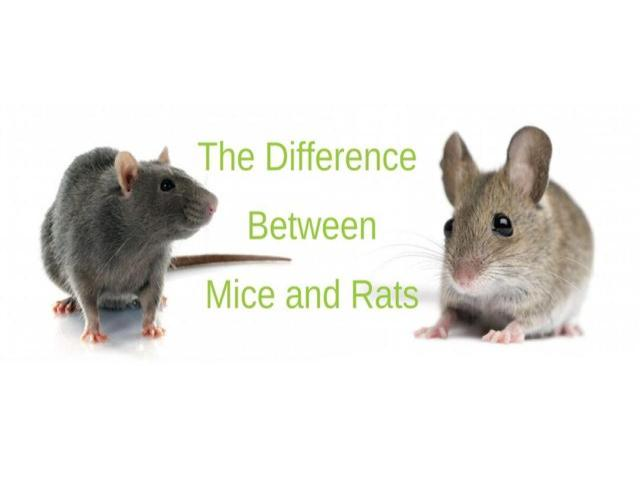Tikus: (428, 122, 600, 352), (38, 144, 210, 348)
